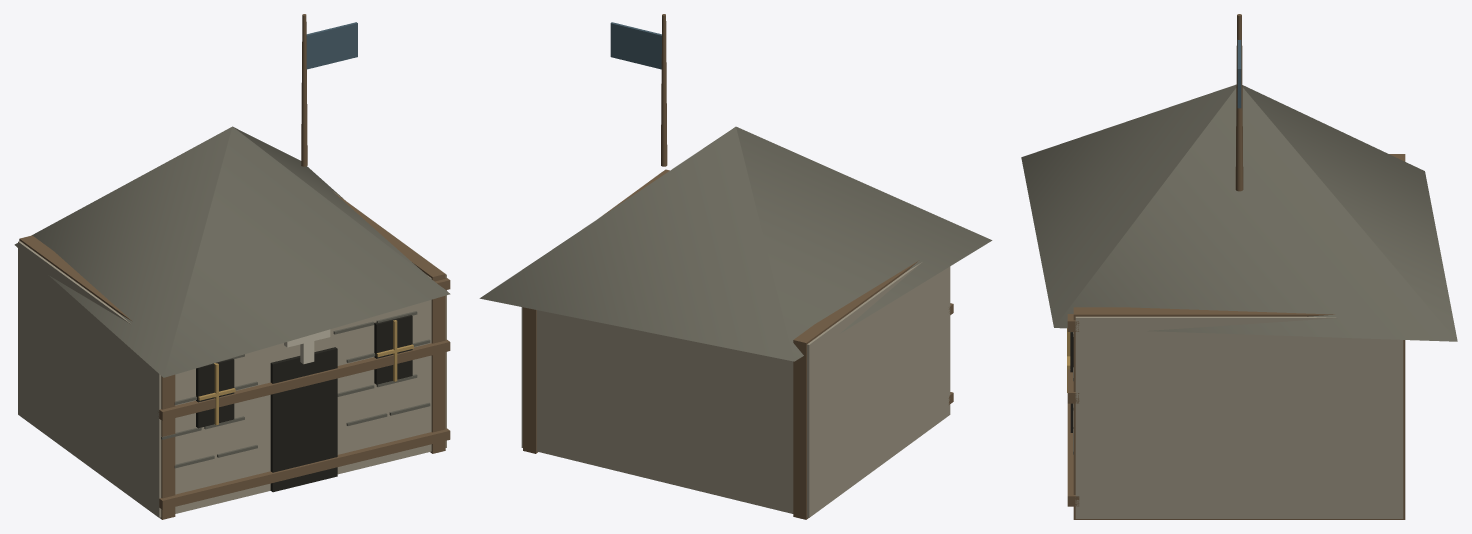
File: b-healing.glb
3 renders of one model, left to right at view 1: azimuth 30°, elevation 25°; view 2: azimuth 150°, elevation 25°; view 3: azimuth 270°, elevation 25°, orthographic. The views are drawn at different scales.
Parts seen in each view (by area): view 1: Structure; view 2: Structure; view 3: Structure.
Boxes of the visible parts, bbox=[...] form: Structure: bbox=[14, 14, 450, 519]; Structure: bbox=[479, 14, 992, 519]; Structure: bbox=[1021, 14, 1457, 519].
Bounding box in the file's own units: 4.53 × 5.33 × 4.53.
